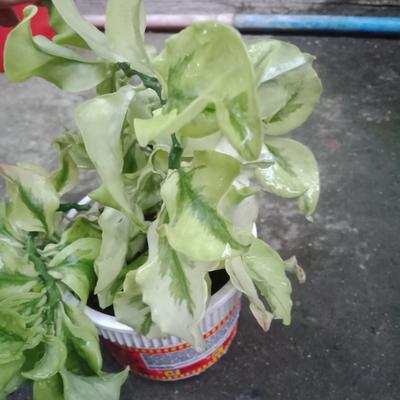Pothos plant: (16, 20, 293, 297)
